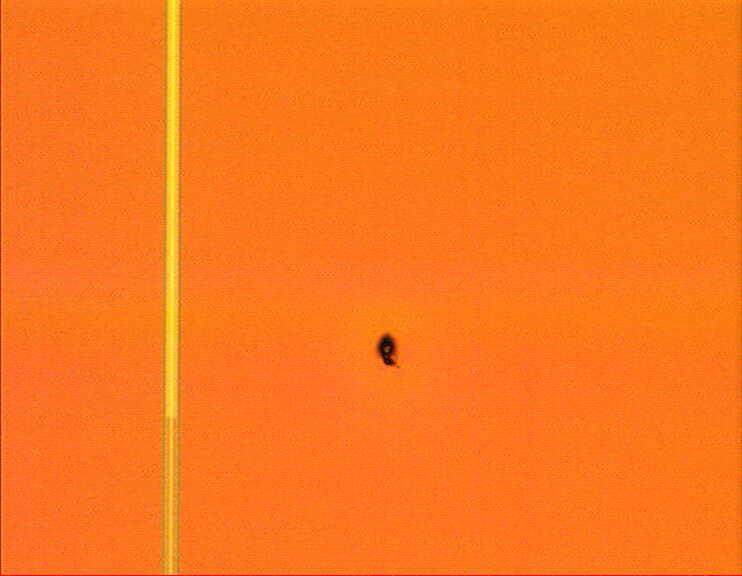PIQ PARTICLE: (367, 329, 413, 380)
